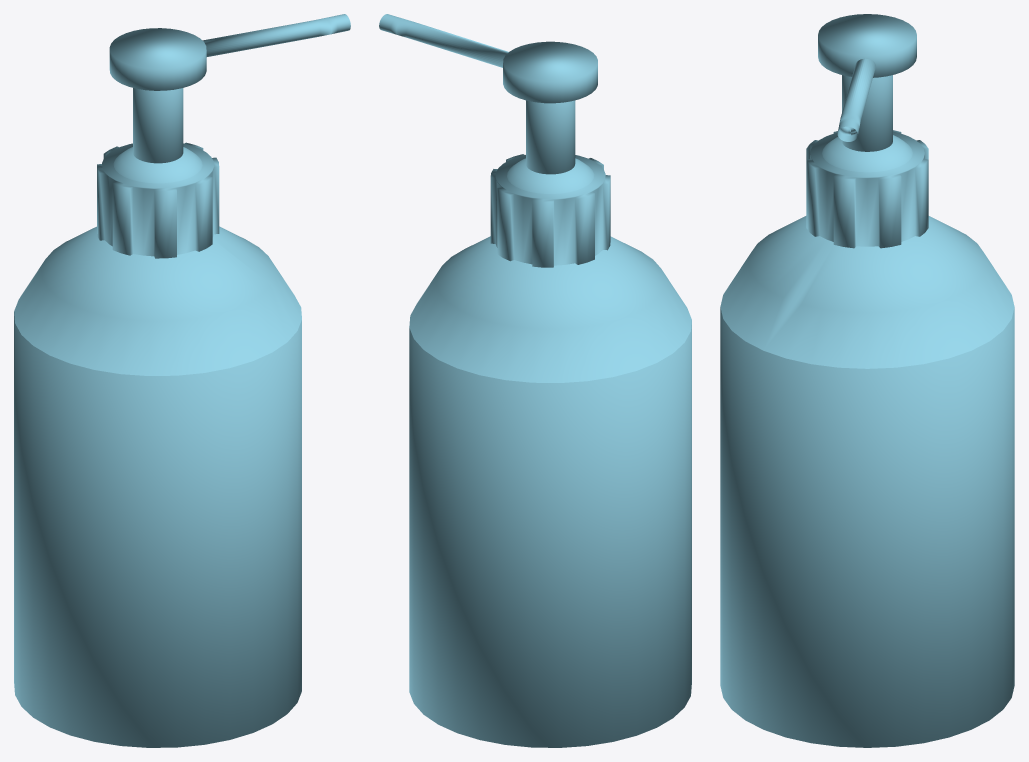
File: dispenser.fbx
3 views of the same model, side by side, from view 1: azimuth 30°, elevation 25°; view 2: azimuth 150°, elevation 25°; view 3: azimuth 270°, elevation 25° (orthographic). The views are drawn at different scales.
Parts seen in each view (by area): view 1: Cylinder; view 2: Cylinder; view 3: Cylinder.
Part boxes in pixels (x1=…): Cylinder: x1=14, y1=14, x2=350, y2=747; Cylinder: x1=379, y1=14, x2=691, y2=747; Cylinder: x1=720, y1=14, x2=1014, y2=747.
Bounding box in the file's own units: 60.91 × 122 × 50.
